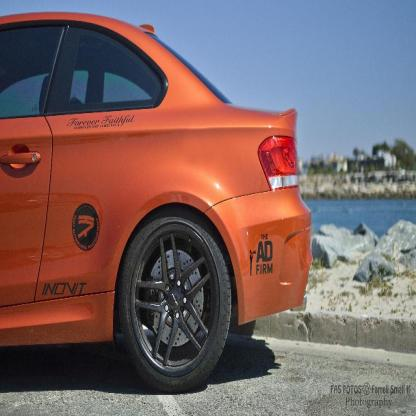Car: (1, 17, 312, 395)
